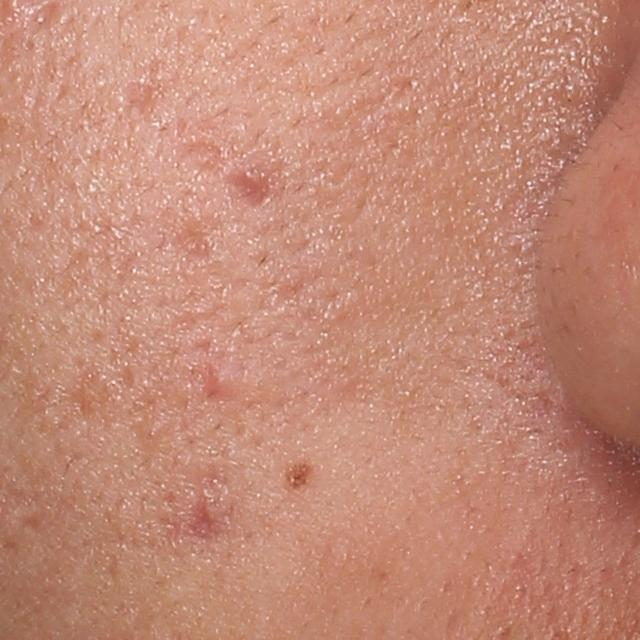atrophic_scar: (175, 135, 234, 184), (158, 221, 211, 267), (182, 493, 218, 547), (122, 80, 162, 120), (27, 0, 63, 36), (8, 509, 48, 533)
papule: (204, 363, 238, 395)
